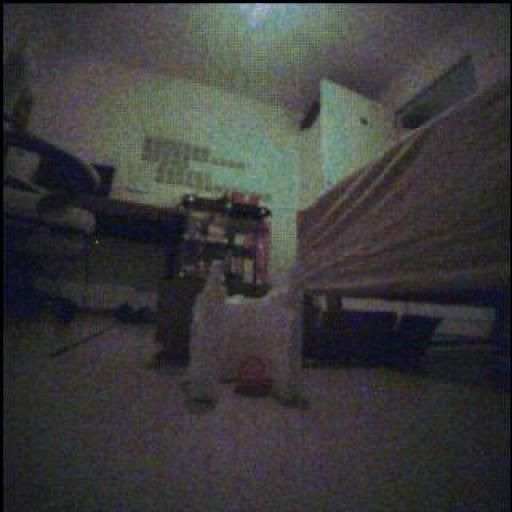basket: (236, 356, 273, 398)
